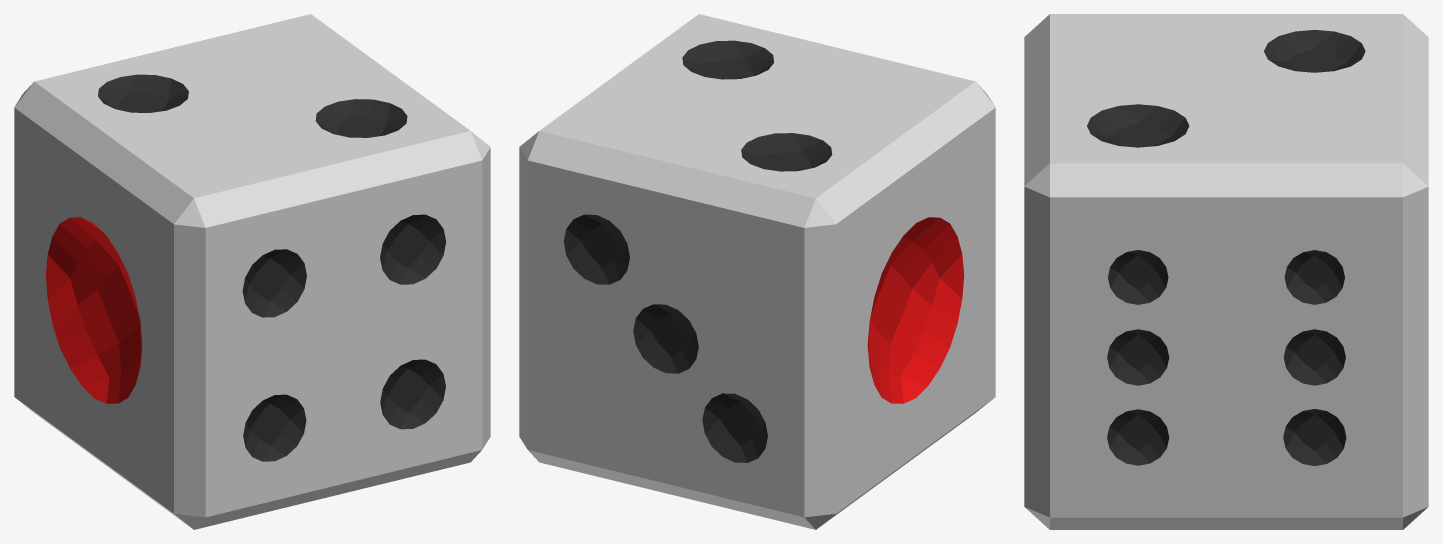
The model's file is さいころ.fbx.
3 views of the same model, side by side, from view 1: azimuth 30°, elevation 25°; view 2: azimuth 150°, elevation 25°; view 3: azimuth 270°, elevation 25° (orthographic). The views are drawn at different scales.
Visible parts, largest first — view 1: 立方体; view 2: 立方体; view 3: 立方体.
Part boxes in pixels (x1,y1,x2,y2): 立方体: (14,14,490,529); 立方体: (519,14,995,529); 立方体: (1024,14,1428,529).
Size of the model in its own units: 200 by 200 by 200.
